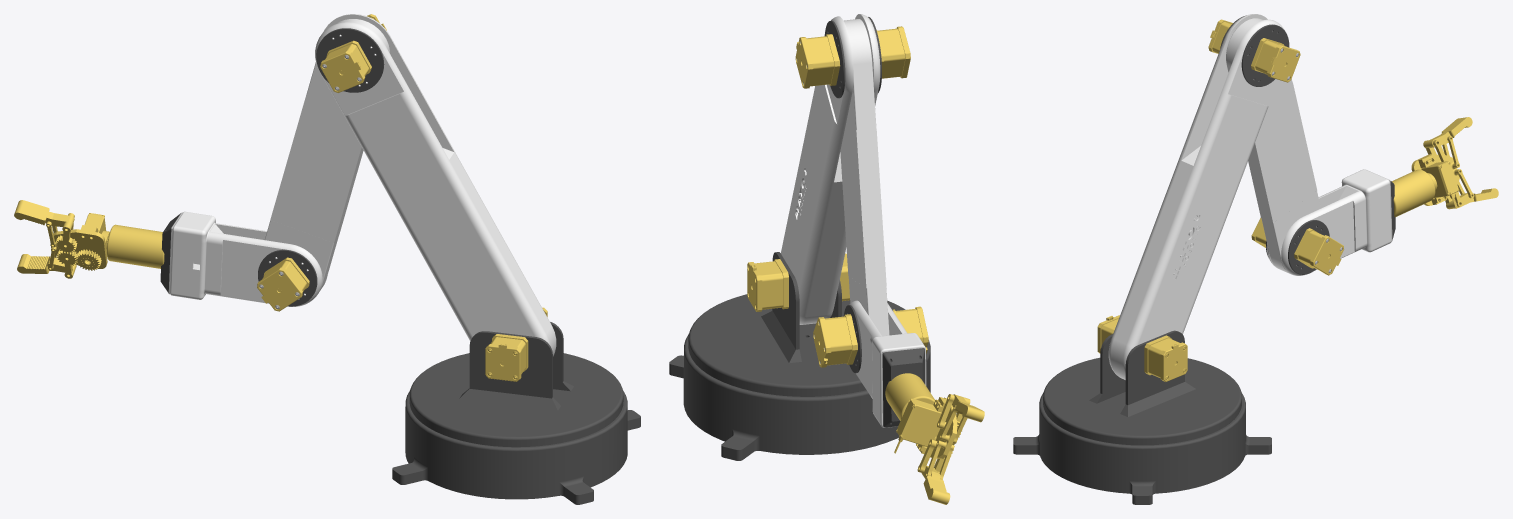
File: BraçoArticulado.glb
3 renders of one model, left to right at view 1: azimuth 30°, elevation 25°; view 2: azimuth 150°, elevation 25°; view 3: azimuth 270°, elevation 25°, orthographic. The views are drawn at different scales.
Parts seen in each view (by area): view 1: Corpo1.017, Corpo1.002, Corpo1, Corpo1.003, Corpo1.007, Corpo1.021, Corpo5.003, Corpo1.027, Corpo5.004, Corpo5.001, Corpo1.009, Corpo1.020 (+2 smaller); view 2: Corpo1, Corpo1.017, Corpo1.002, Corpo1.003, Corpo1.007, Corpo5.005, Corpo5, Corpo5.002, Corpo1.024, Corpo5.004, Corpo1.021, Corpo1.036 (+8 smaller); view 3: Corpo1.017, Corpo1.002, Corpo1, Corpo1.003, Corpo1.007, Corpo5.002, Corpo5, Corpo5.005, Corpo1.021, Corpo1.025, Corpo1.040, Corpo1.020.
Boxes of the visible parts, <box> form: Corpo1.017: <box>315,14,556,356</box>; Corpo1.002: <box>409,322,623,447</box>; Corpo1: <box>392,390,640,504</box>; Corpo1.003: <box>264,19,389,291</box>; Corpo1.007: <box>170,211,326,306</box>; Corpo1.021: <box>106,224,164,268</box>; Corpo5.003: <box>485,334,528,381</box>; Corpo1.027: <box>316,28,384,92</box>; Corpo5.004: <box>320,40,371,92</box>; Corpo5.001: <box>257,257,309,311</box>; Corpo1.009: <box>258,249,317,306</box>; Corpo1.020: <box>50,225,109,268</box>; Corpo1: <box>669,334,930,460</box>; Corpo1.017: <box>780,14,880,324</box>; Corpo1.002: <box>688,252,905,396</box>; Corpo1.003: <box>840,19,889,336</box>; Corpo1.007: <box>849,300,926,427</box>; Corpo5.005: <box>795,34,840,88</box>; Corpo5: <box>813,314,857,367</box>; Corpo5.002: <box>747,259,788,311</box>; Corpo1.024: <box>882,348,925,427</box>; Corpo5.004: <box>876,26,910,78</box>; Corpo1.021: <box>885,373,935,420</box>; Corpo1.036: <box>905,399,937,445</box>; Corpo1.017: <box>1108,14,1284,379</box>; Corpo1.002: <box>1043,330,1241,445</box>; Corpo1: <box>1013,392,1271,504</box>; Corpo1.003: <box>1226,18,1320,273</box>; Corpo1.007: <box>1266,169,1391,275</box>; Corpo5.002: <box>1144,335,1187,381</box>; Corpo5: <box>1294,228,1344,275</box>; Corpo5.005: <box>1251,38,1300,82</box>; Corpo1.021: <box>1392,169,1435,217</box>; Corpo1.025: <box>1241,24,1289,86</box>; Corpo1.040: <box>1288,220,1329,274</box>; Corpo1.020: <box>1411,154,1459,205</box>.
Size of the model in its own units: 60.88 by 53.42 by 60.98.
